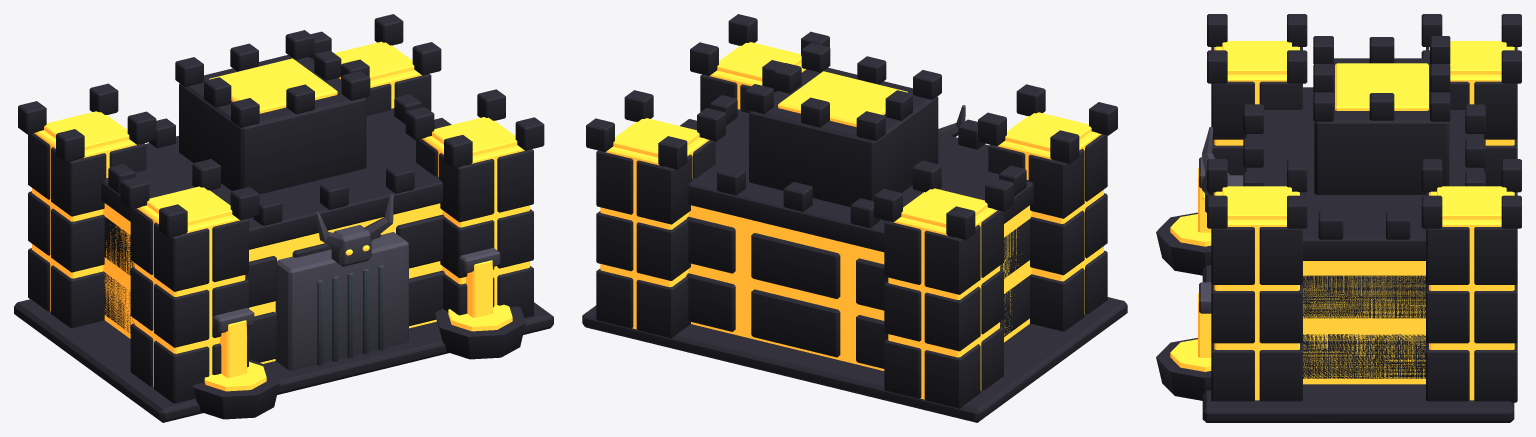
File: env_castle_foundry.glb
3 renders of one model, left to right at view 1: azimuth 30°, elevation 25°; view 2: azimuth 150°, elevation 25°; view 3: azimuth 270°, elevation 25°, orthographic. The views are drawn at different scales.
Parts seen in each view (by area): view 1: env_castle_foundry; view 2: env_castle_foundry; view 3: env_castle_foundry.
Boxes of the visible parts, x1,y1,x2,y2 form: env_castle_foundry: (14,14,553,422); env_castle_foundry: (582,14,1127,422); env_castle_foundry: (1156,14,1521,422).
Bounding box in the file's own units: 4.65 × 2.76 × 3.58.
Materials: 1 (1 with a texture image).
